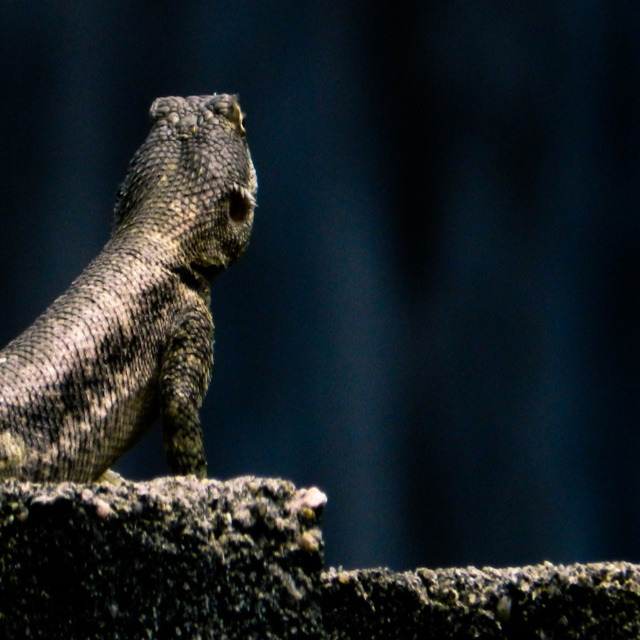Lizard: (2, 66, 265, 536)
